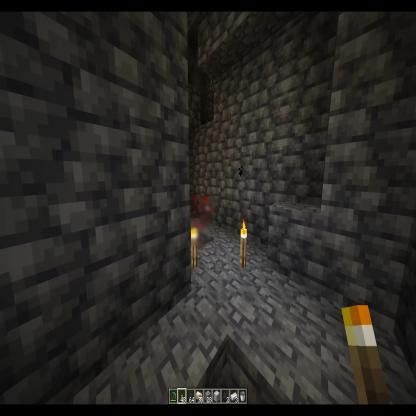redstone ore: (191, 219, 210, 247), (201, 196, 215, 220), (189, 193, 201, 216)
